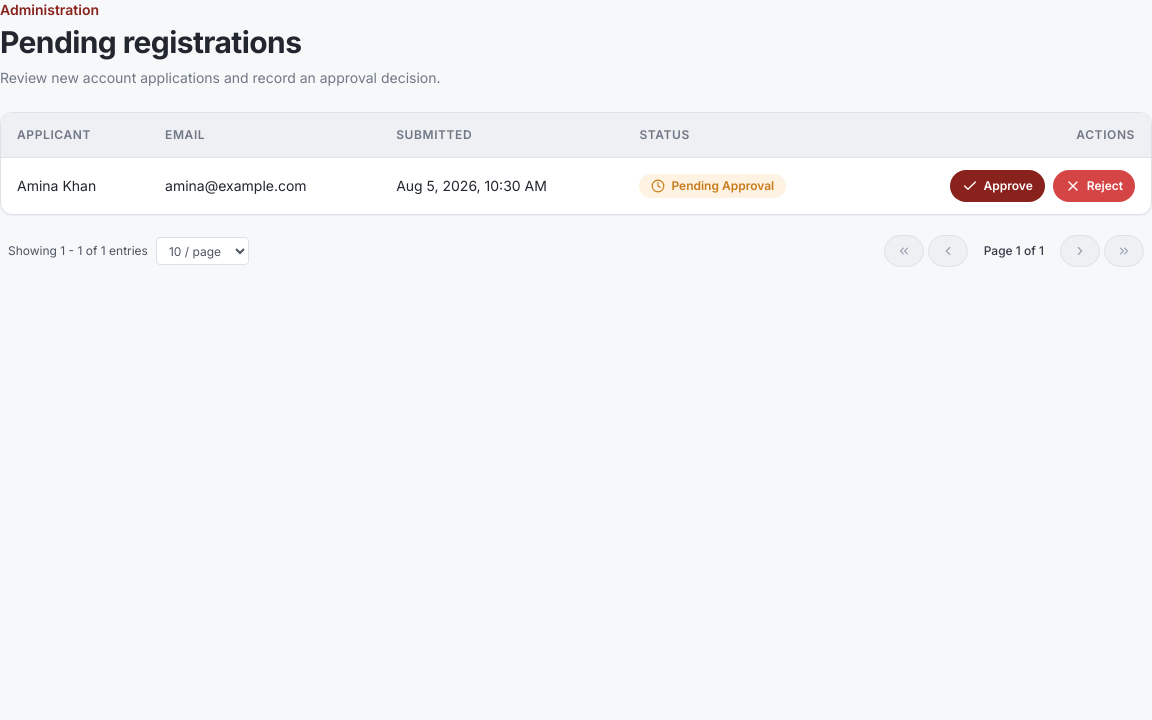
Test: RegistrationsPage › requires and trims a rejection reason before submitting
Click the button "Reject" at (1094,186), box [1053, 170, 1135, 202]
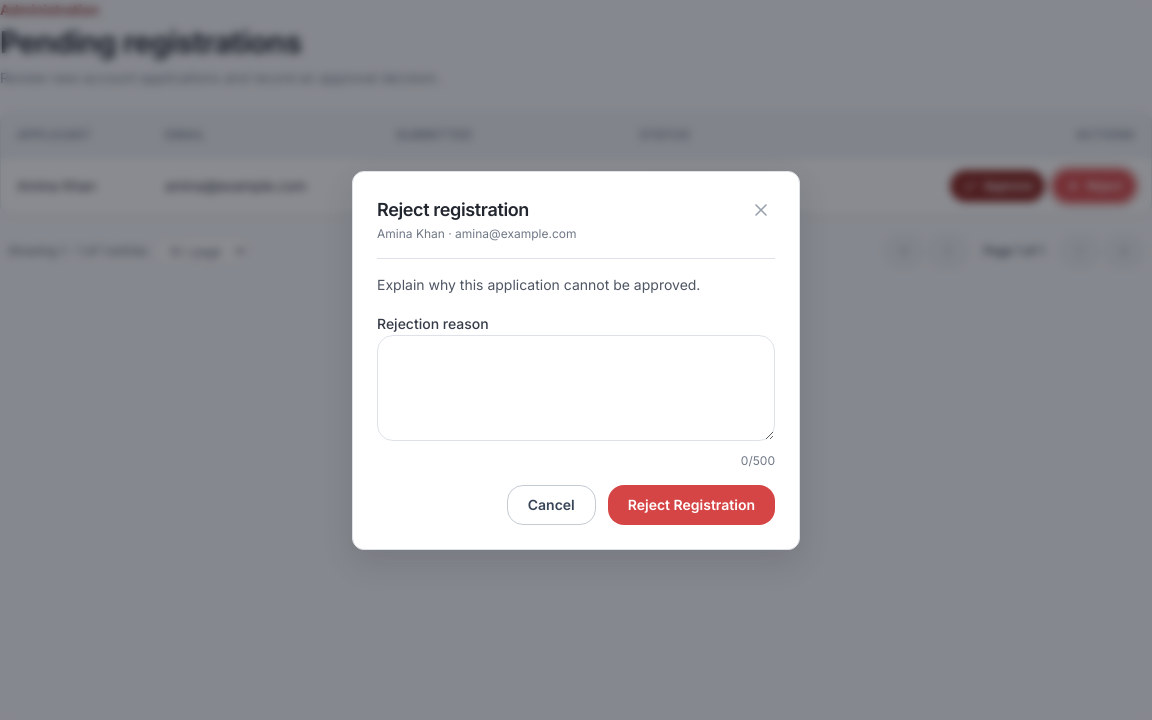
Click the button "Reject Registration" at (691,504), box [608, 484, 775, 524]
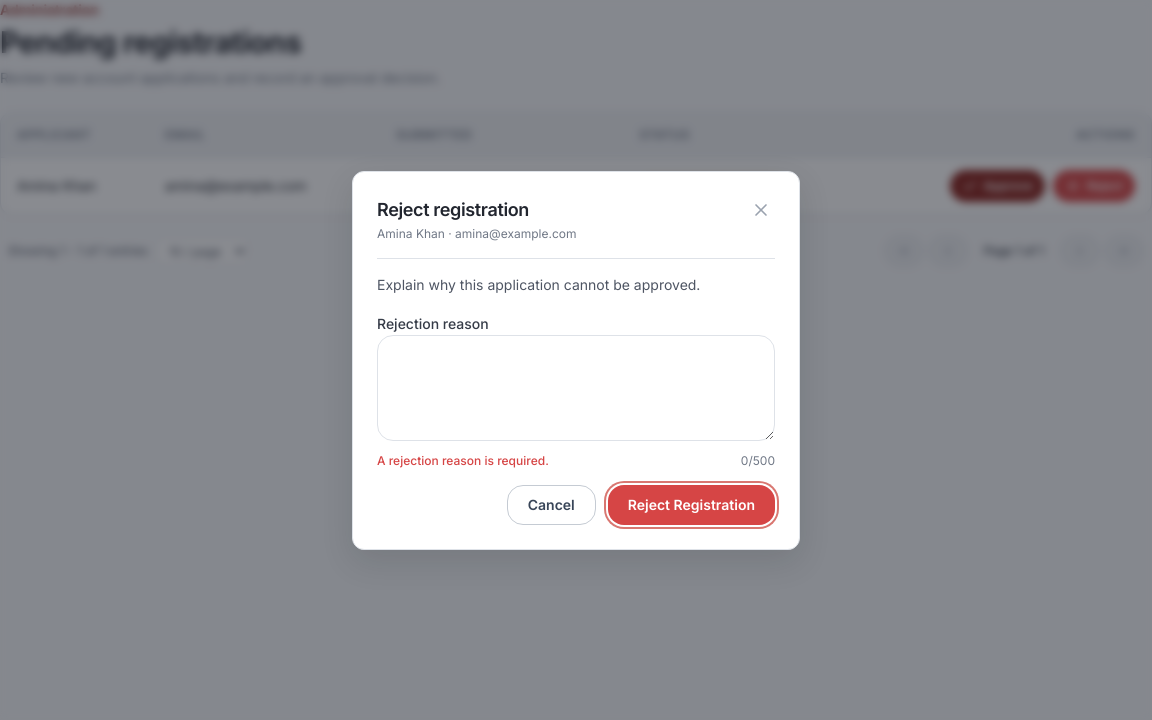
Expected: the text "A rejection reason is required." is shown, [377, 452, 549, 468]
Type "  Details do not match.  " into the text box labelled "Rejection reason" at (576,388), box [377, 334, 775, 440]
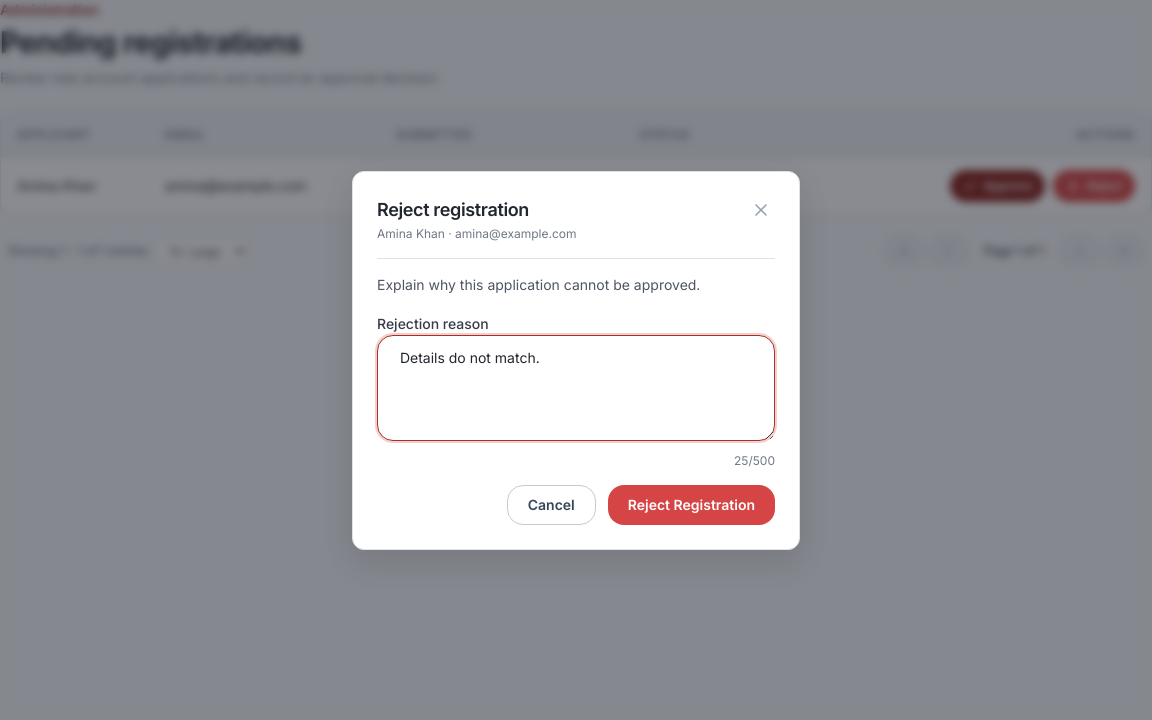
Click the button "Reject Registration" at (691,504), box [608, 484, 775, 524]
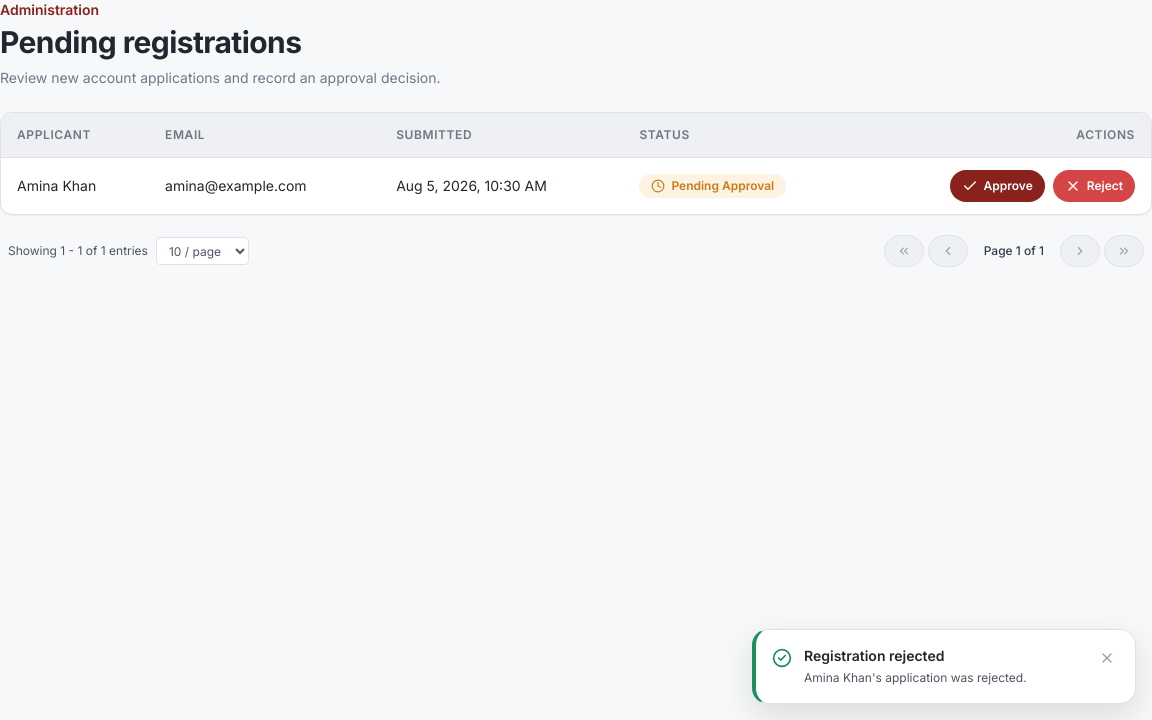
Expected: the heading "Registration rejected" is shown, [804, 646, 944, 664]
